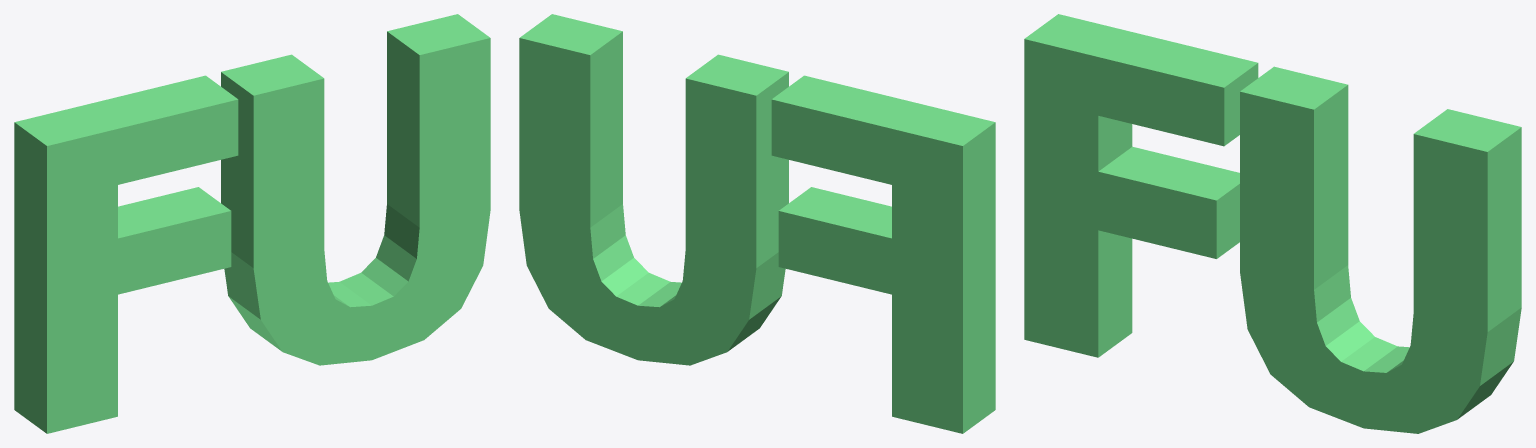
Rendered from suku_besar_fu.glb.
The picture shows the model from 3 angles, left to right: view 1: azimuth 30°, elevation 25°; view 2: azimuth 150°, elevation 25°; view 3: azimuth 330°, elevation 25°; orthographic projection. The views are drawn at different scales.
Visible parts, largest first — view 1: geometry_0; view 2: geometry_0; view 3: geometry_0.
Boxes of the visible parts, x1=… form: geometry_0: x1=14, y1=14, x2=490, y2=433; geometry_0: x1=519, y1=14, x2=995, y2=433; geometry_0: x1=1024, y1=14, x2=1521, y2=433.
Bounding box in the file's own units: 11.75 × 7.43 × 1.5.
